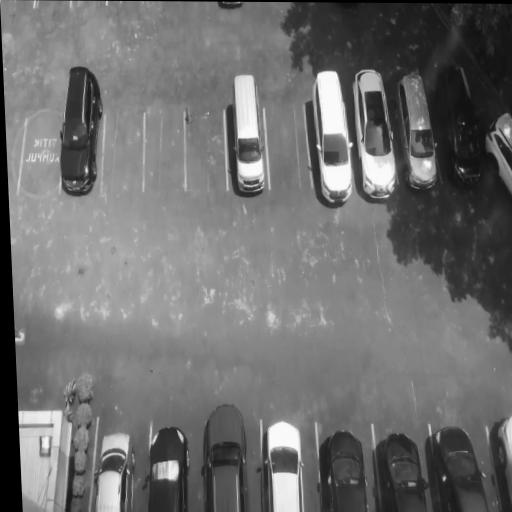Car: (305, 68, 359, 206), (348, 68, 403, 202), (433, 59, 488, 191), (390, 68, 445, 195), (56, 62, 104, 197), (427, 420, 494, 512), (228, 67, 268, 198), (202, 404, 250, 512), (376, 428, 432, 512), (319, 423, 371, 512), (261, 419, 307, 512), (90, 428, 137, 512), (147, 421, 189, 512), (480, 98, 512, 199), (489, 416, 512, 512)
Space Available: (264, 106, 312, 190), (142, 108, 185, 192), (18, 116, 62, 198), (102, 109, 144, 193), (184, 109, 227, 190)
